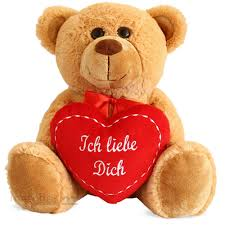teddy: (3, 3, 220, 222)
